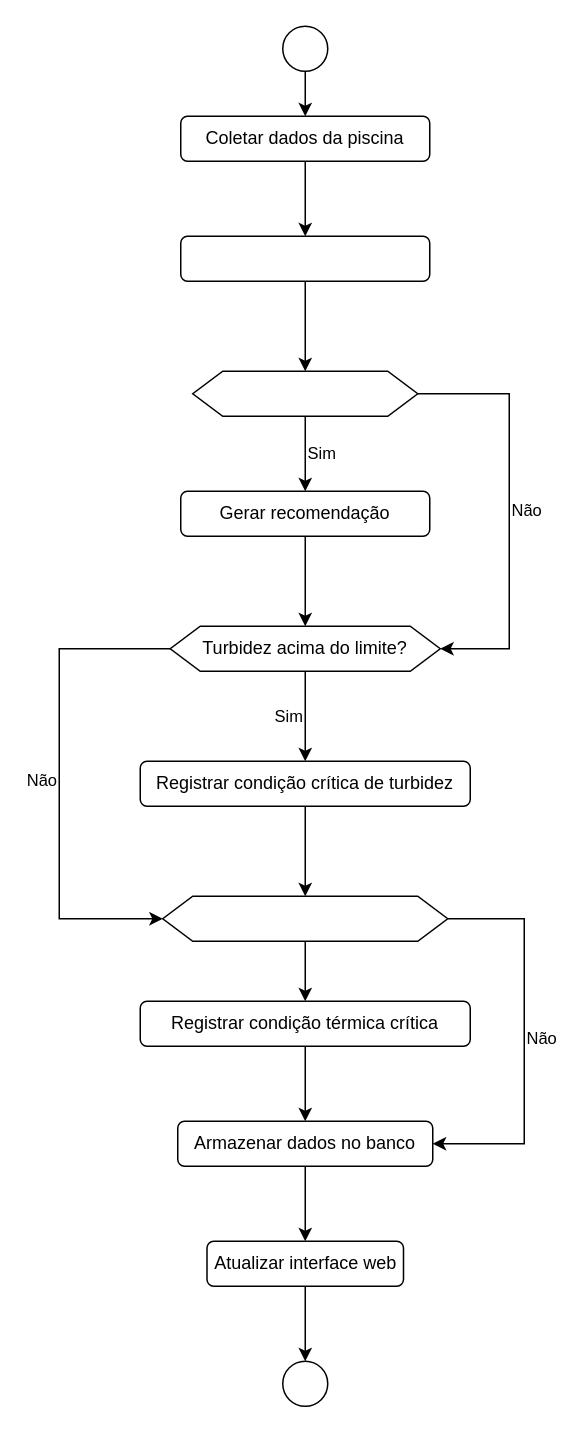
Image size: 582x1433. Some labels were removed from this diagram. The shapes that lost their labels are listed below. From the top down, each one's box as (x1, y1, x2, y2) in pixels, then its label:
(179, 235, 430, 281): Normalizar e validar leituras
(191, 370, 418, 416): pH fora do intervalo?
(161, 895, 448, 941): Temperatura fora do intervalo?
